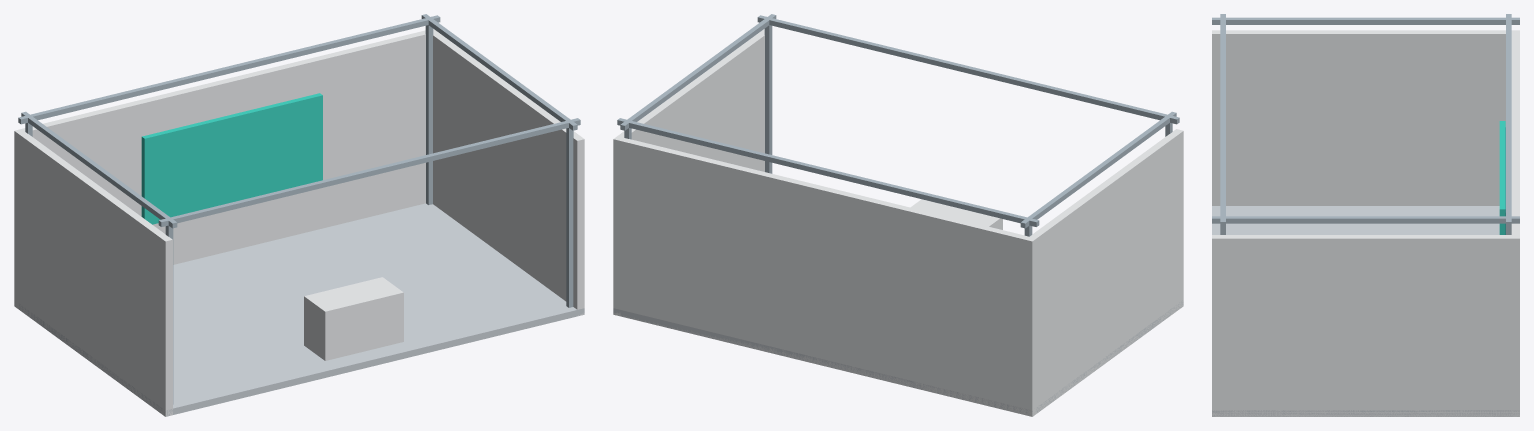
3 renders of one model, left to right at view 1: azimuth 30°, elevation 25°; view 2: azimuth 150°, elevation 25°; view 3: azimuth 270°, elevation 25°, orthographic.
Parts seen in each view (by area): view 1: Exhibition Booth Concept; view 2: Exhibition Booth Concept; view 3: Exhibition Booth Concept.
Part boxes in pixels (box(x1,y1,x2,y2)): Exhibition Booth Concept: box(14, 14, 584, 416); Exhibition Booth Concept: box(613, 14, 1183, 416); Exhibition Booth Concept: box(1212, 14, 1519, 416).
Bounding box in the file's own units: 8 × 3.49 × 5.
